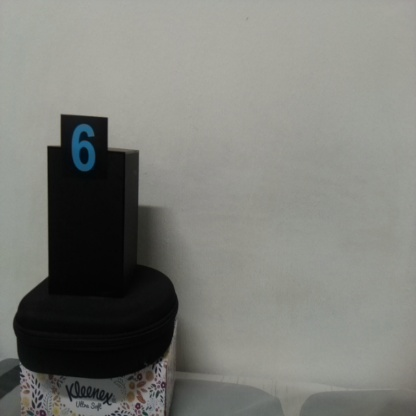id_6: (60, 112, 109, 201)
